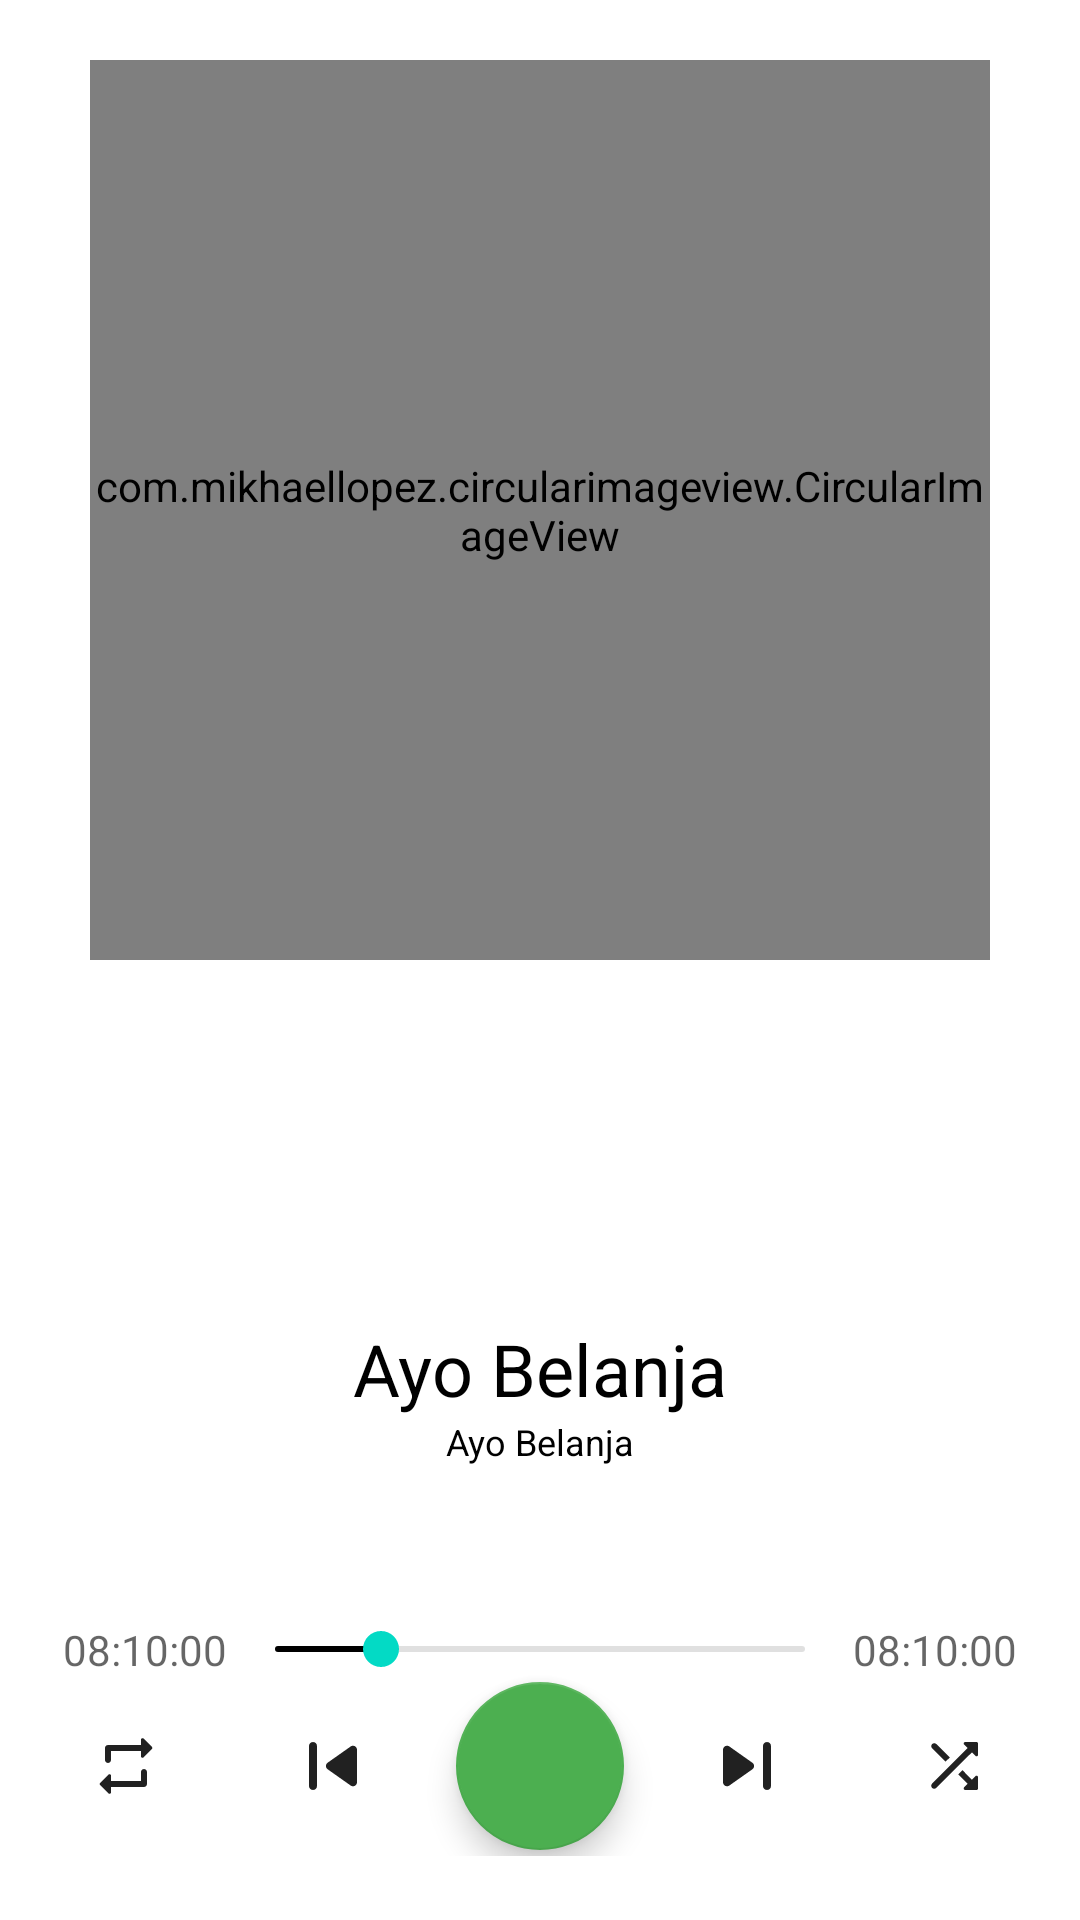

Icon bounding boxes for this 1080x1920 phone screenshot, format (x1, y1, x2, y2):
repeat: (99, 1738, 153, 1794)
shuffle: (931, 1742, 978, 1790)
skip next: (723, 1742, 771, 1790)
skip previous: (309, 1742, 357, 1790)
